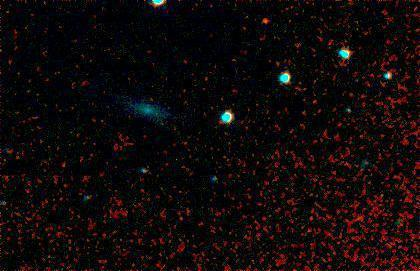star: (248, 7, 278, 37)
